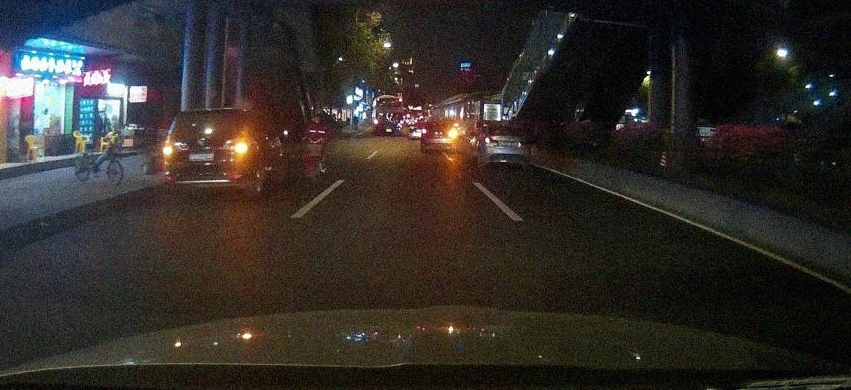L_light: (164, 144, 183, 155), (484, 138, 497, 143), (422, 128, 428, 134)
R_light: (225, 144, 249, 154), (448, 130, 459, 136), (518, 141, 527, 146)
T_light: (204, 112, 219, 115), (437, 123, 444, 125), (501, 126, 506, 127)
night-no: (483, 124, 527, 171)
night-right: (163, 108, 255, 200), (420, 120, 461, 154)
